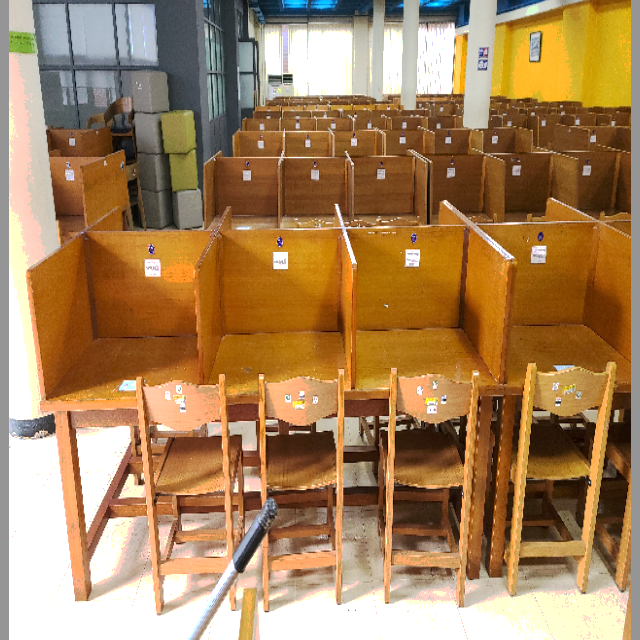empty: (355, 253, 499, 476), (203, 251, 345, 465), (65, 251, 193, 467)
